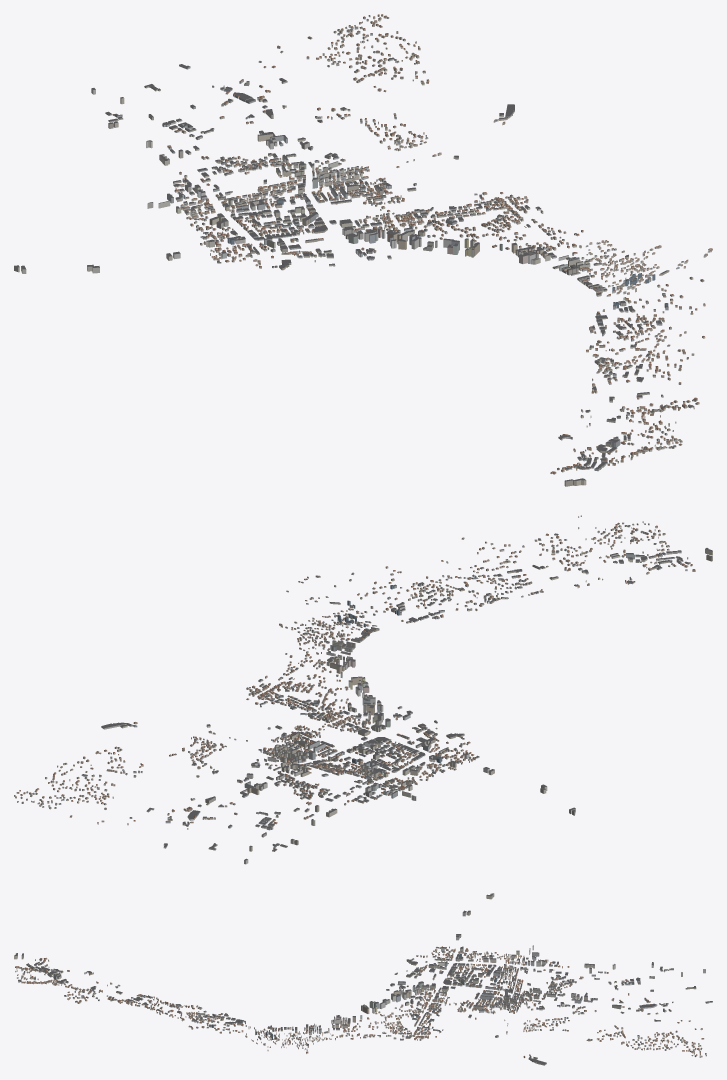
Rendered from buildings.glb.
The picture shows the model from 3 angles, top to bottom: view 1: azimuth 30°, elevation 25°; view 2: azimuth 150°, elevation 25°; view 3: azimuth 270°, elevation 25°; orthographic projection. The views are drawn at different scales.
Visible parts, largest first — view 1: chunk_-1_-9, chunk_-3_-8, chunk_-1_-8, chunk_-3_-7, chunk_0_-6, chunk_1_-3; view 2: chunk_-1_-9, chunk_-3_-8, chunk_-1_-6, chunk_-3_-7, chunk_-1_-8; view 3: chunk_-1_-9, chunk_-1_-6, chunk_-3_-7, chunk_-3_-8, chunk_-1_-8, chunk_0_-6, chunk_-2_-7, chunk_-4_-7, chunk_-2_-8.
Boxes of the visible parts, x1,y1,x2,y2 form: chunk_-1_-9: [281, 161, 346, 189]; chunk_-3_-8: [225, 199, 282, 229]; chunk_-1_-8: [311, 176, 373, 204]; chunk_-3_-7: [245, 219, 304, 248]; chunk_0_-6: [400, 207, 463, 231]; chunk_1_-3: [519, 251, 588, 275]; chunk_-1_-9: [269, 749, 323, 776]; chunk_-3_-8: [358, 753, 412, 777]; chunk_-1_-6: [330, 703, 378, 728]; chunk_-3_-7: [379, 740, 434, 762]; chunk_-1_-8: [289, 736, 336, 757]; chunk_-1_-9: [504, 988, 541, 1005]; chunk_-1_-6: [405, 987, 439, 1005]; chunk_-3_-7: [438, 961, 472, 978]; chunk_-3_-8: [471, 964, 506, 977]; chunk_-1_-8: [472, 990, 505, 1006]; chunk_0_-6: [405, 1004, 441, 1020]; chunk_-2_-7: [438, 976, 472, 991]; chunk_-4_-7: [438, 946, 473, 962]; chunk_-2_-8: [470, 975, 506, 991].
Bounding box in the file's own units: 3058 × 201 × 5244.
